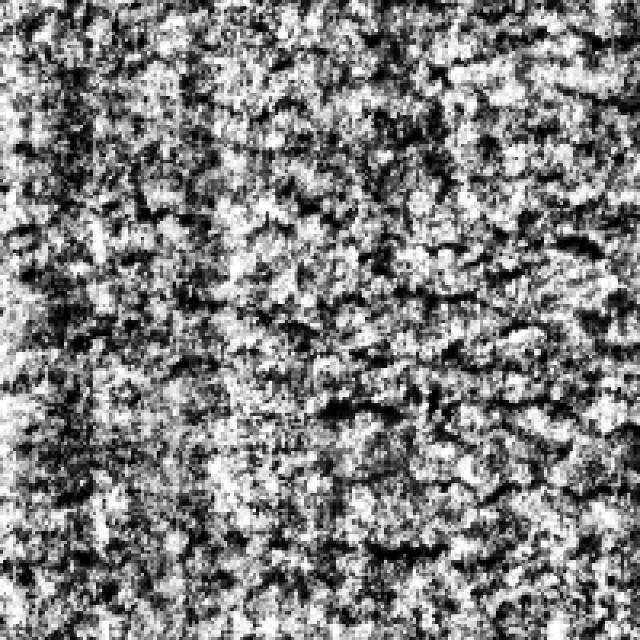Pitted_Surface: (22, 48, 637, 352), (314, 381, 636, 554)
